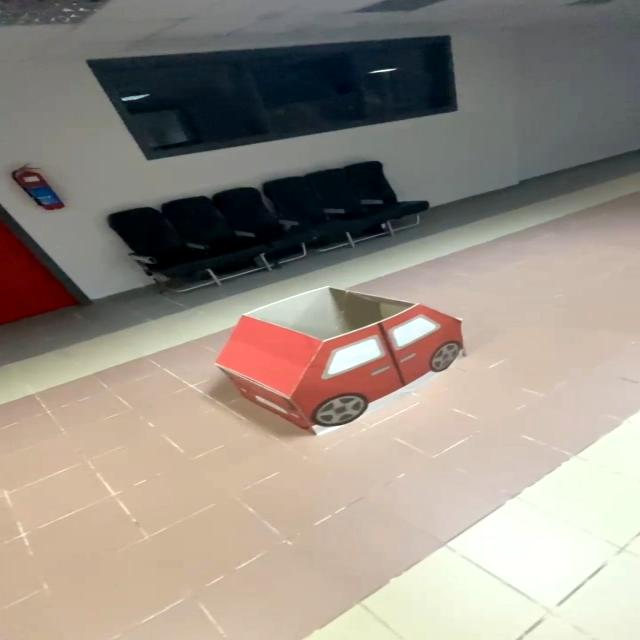red_car: (175, 276, 508, 453)
